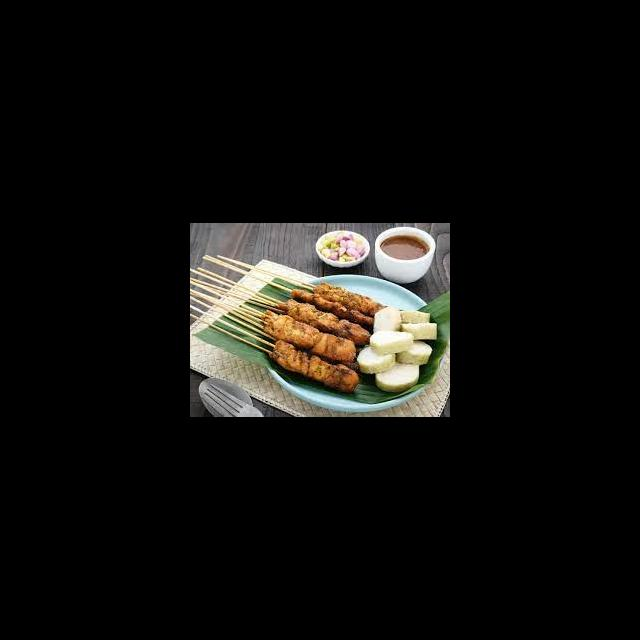food_waste: (298, 290, 409, 377)
